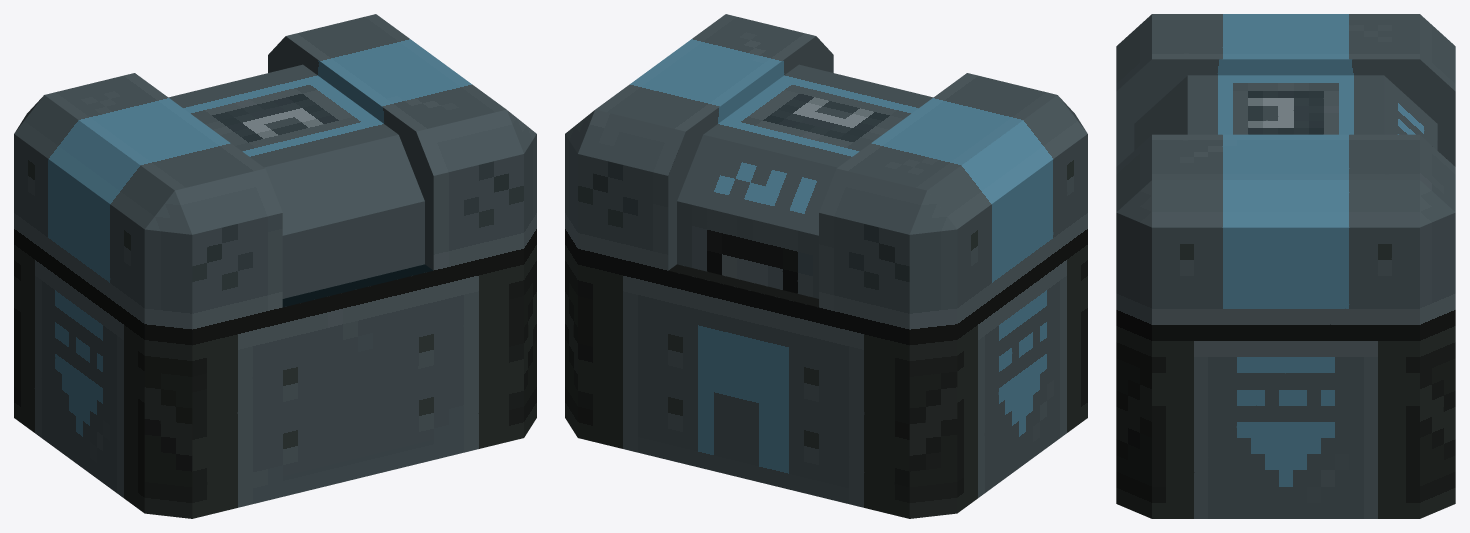
The model's file is new_tritanium_crate_light_blue.obj.
The picture shows the model from 3 angles, left to right: view 1: azimuth 30°, elevation 25°; view 2: azimuth 150°, elevation 25°; view 3: azimuth 270°, elevation 25°; orthographic projection. The views are drawn at different scales.
Parts seen in each view (by area): view 1: tritanium_crate_light_blue; view 2: tritanium_crate_light_blue; view 3: tritanium_crate_light_blue.
Part boxes in pixels (x1,y1,x2,y2): tritanium_crate_light_blue: (14,14,536,518); tritanium_crate_light_blue: (565,14,1087,518); tritanium_crate_light_blue: (1116,14,1455,518).
Bounding box in the file's own units: 0.9958 × 0.766 × 0.7278.
